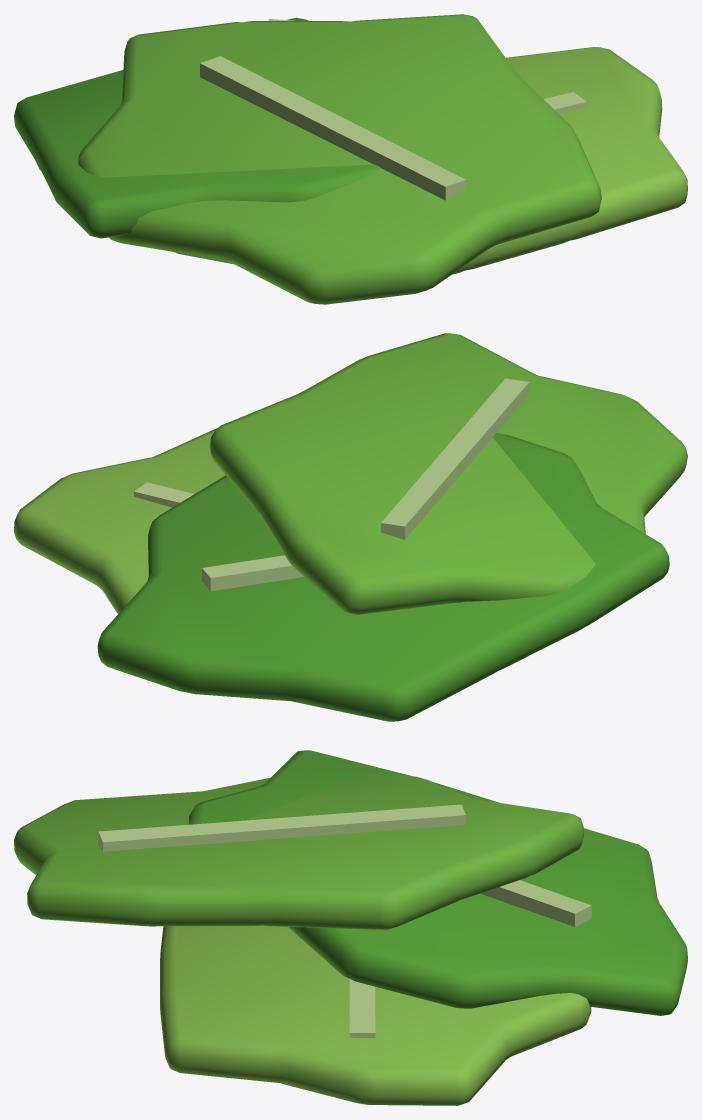
The model's file is lettuce_chopped.glb.
3 views of the same model, one above another, from view 1: azimuth 30°, elevation 25°; view 2: azimuth 150°, elevation 25°; view 3: azimuth 270°, elevation 25° (orthographic). The views are drawn at different scales.
Visible parts, largest first — view 1: lettuce_chopped; view 2: lettuce_chopped; view 3: lettuce_chopped.
Boxes of the visible parts, x1,y1,x2,y2 form: lettuce_chopped: (14,14,687,304); lettuce_chopped: (14,333,687,721); lettuce_chopped: (14,750,687,1105).
Bounding box in the file's own units: 0.3664 × 0.0912 × 0.3656.
